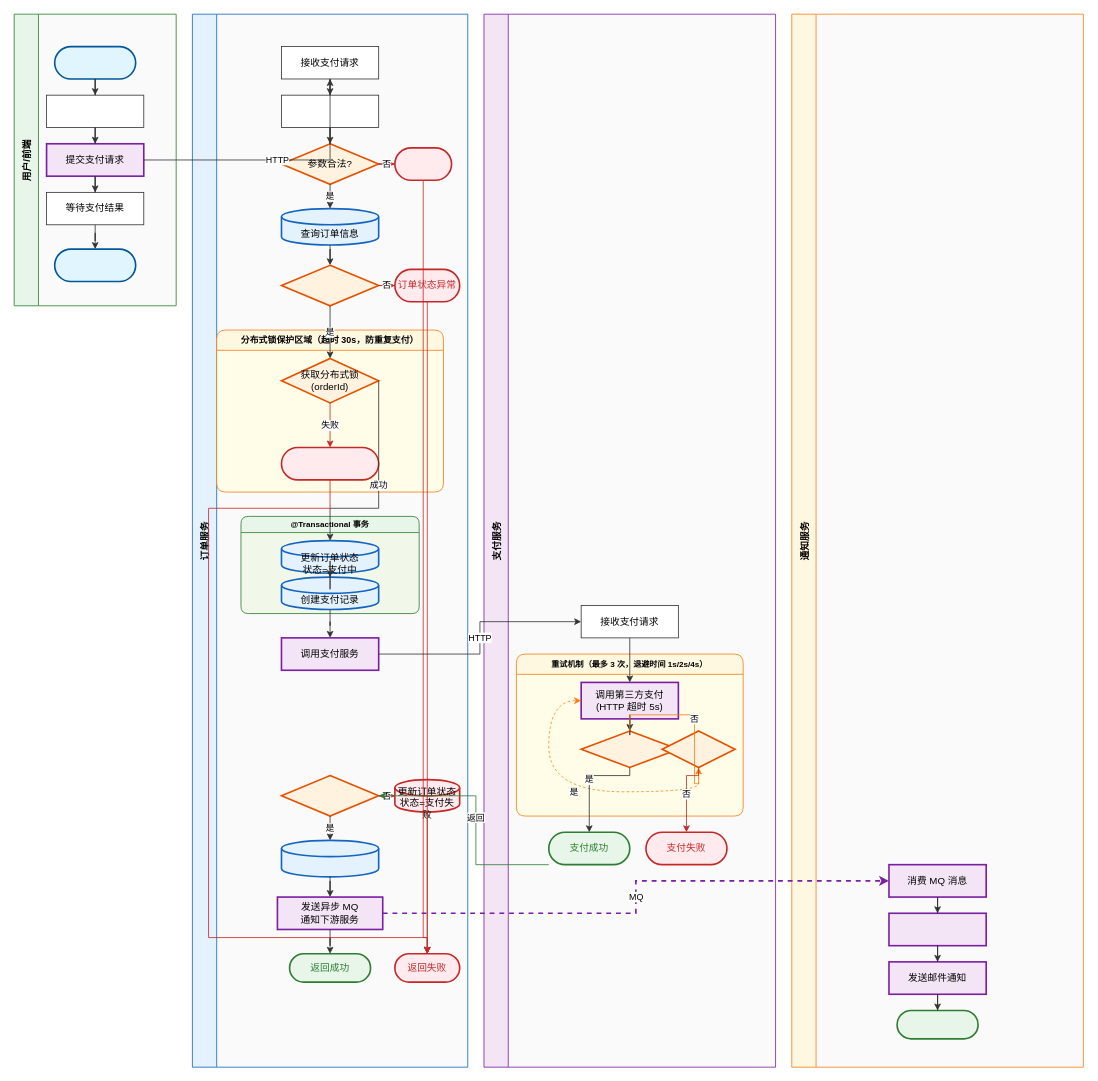
The diagram is 1098 pixels wide and 1081 high, and some of its shapes have lost their labels. The shapes that lost their labels are listed below. From the top down, each one's centre as x and y in pixels, then its label:
At [94,62]: "用户点击支付".
At [95,111]: "填写支付信息".
At [330,111]: "参数校验".
At [423,164]: "参数错误".
At [94,265]: "显示支付结果".
At [329,285]: "订单可支付?".
At [329,463]: "重复请求 拒绝处理".
At [629,749]: "调用成功?".
At [698,749]: "重试次数<3?".
At [329,795]: "支付成功?".
At [329,858]: "更新订单状态 状态=已支付".
At [937,929]: "发送短信通知".
At [937,1024]: "通知完成".
